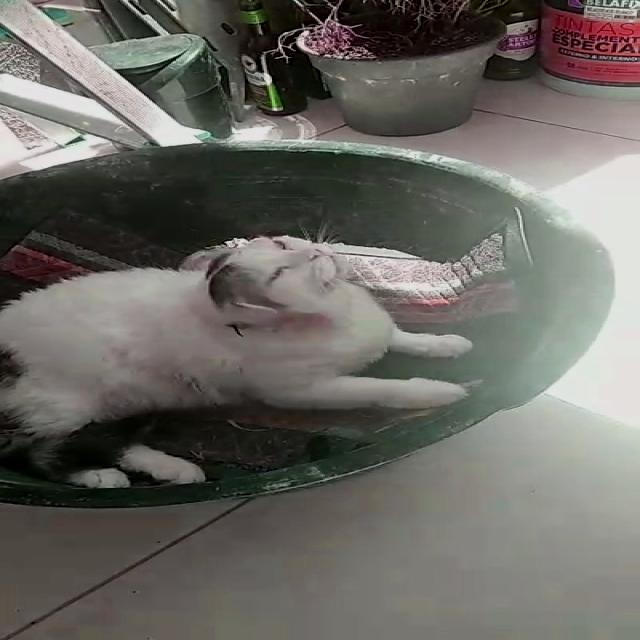Simba: (8, 216, 484, 492)
